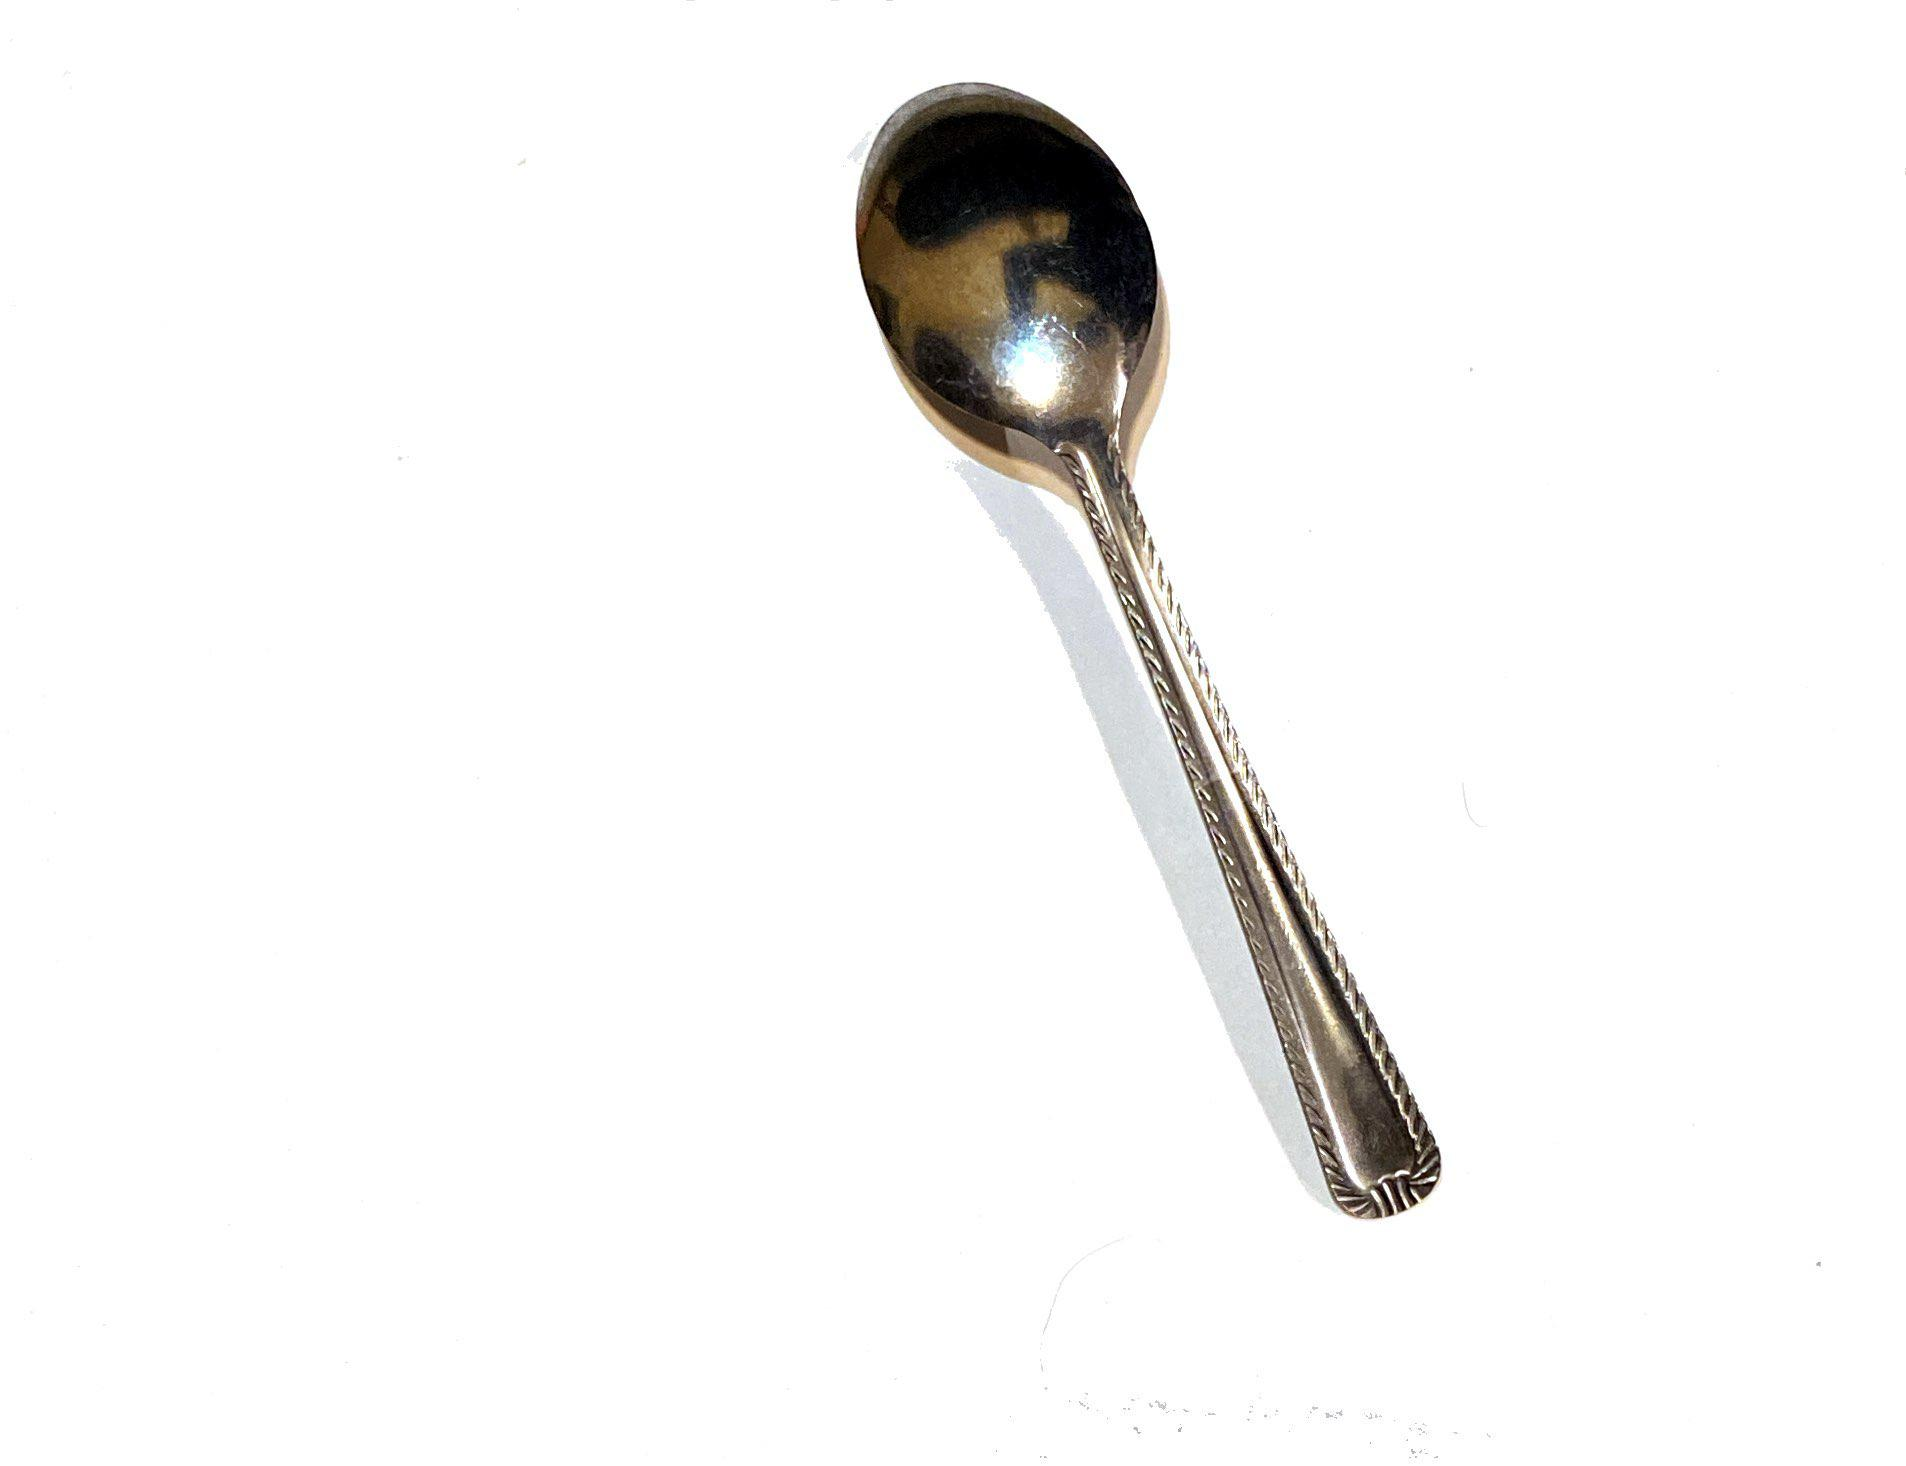Spoon: (810, 52, 1455, 1334)
